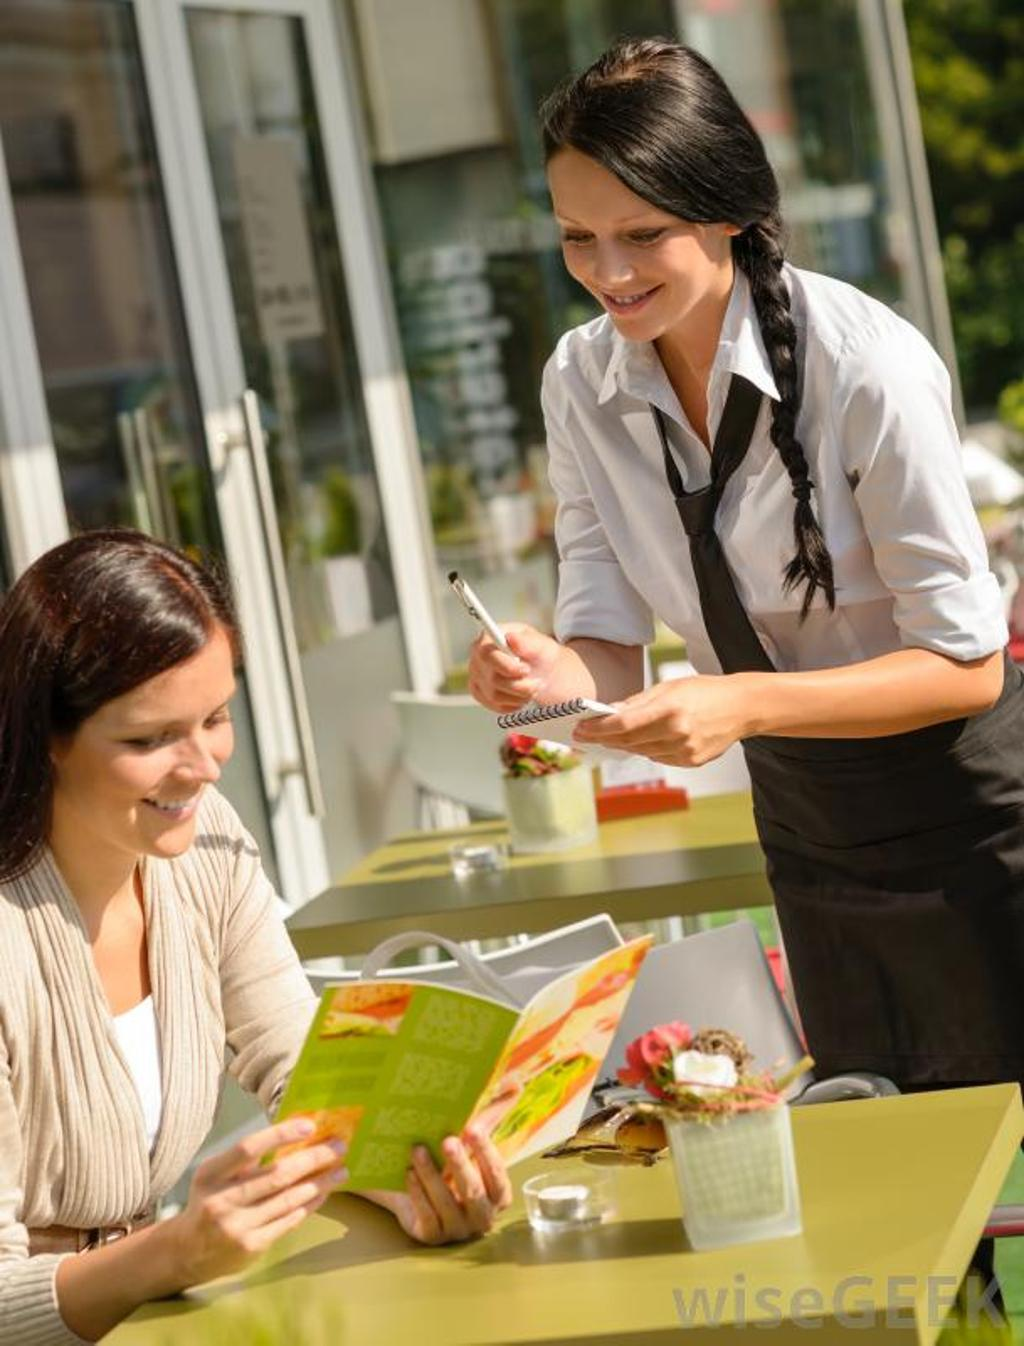face: (71, 635, 234, 858), (546, 158, 704, 347)
